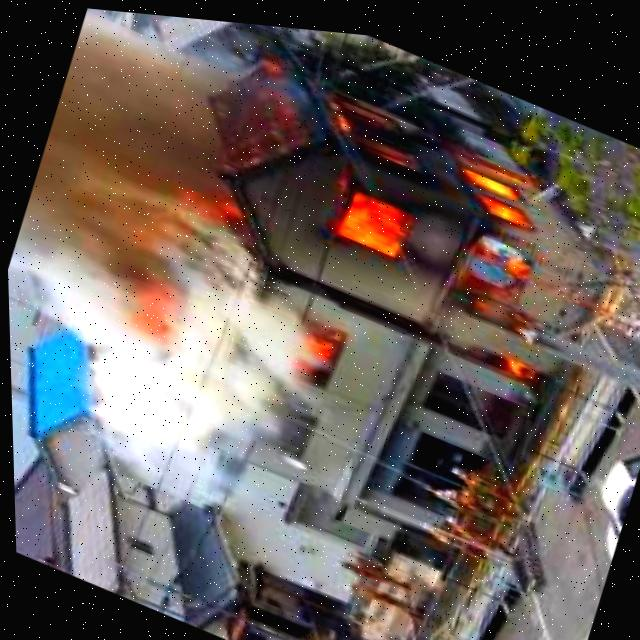Fire: (254, 61, 609, 390), (280, 312, 347, 398)
Smoke: (0, 0, 372, 535)
